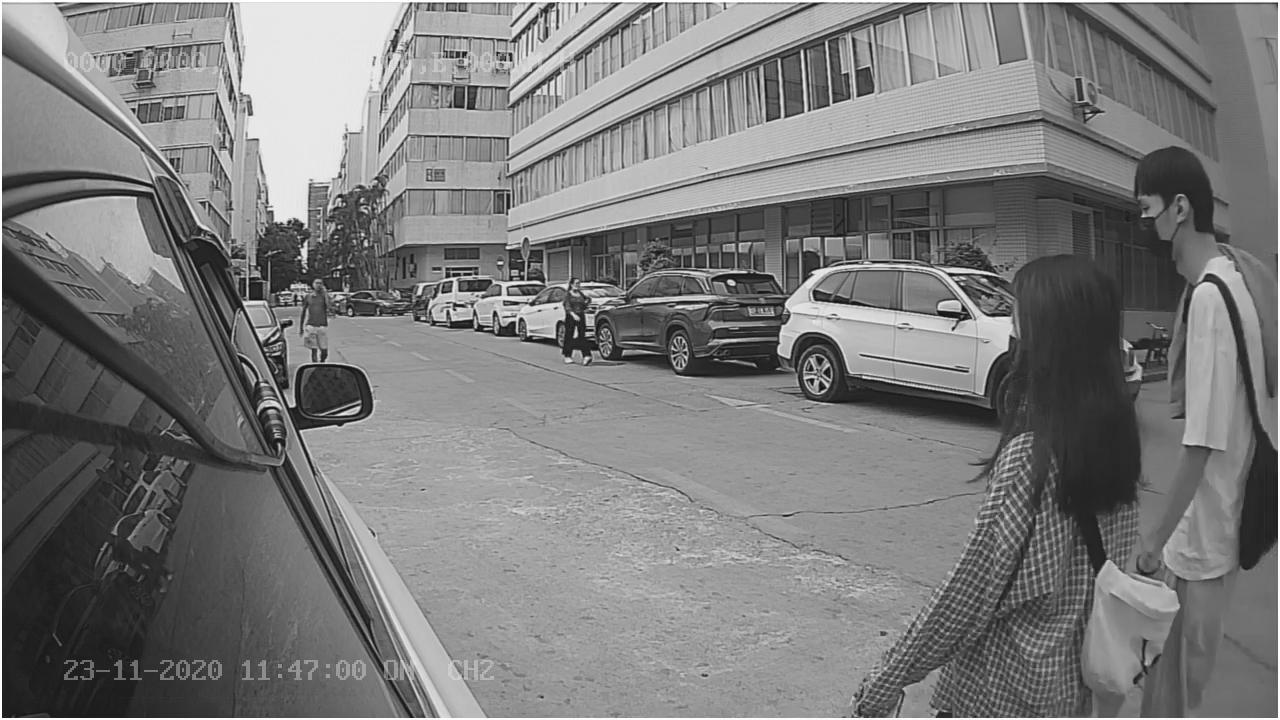person: (960, 252, 1153, 601)
